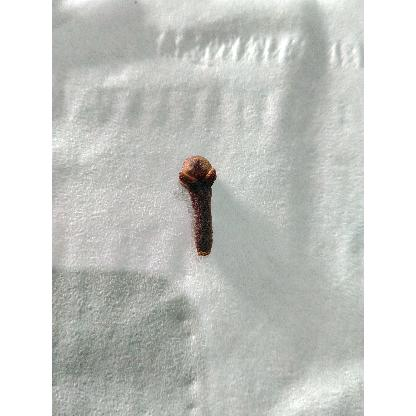baik: (178, 157, 216, 259)
